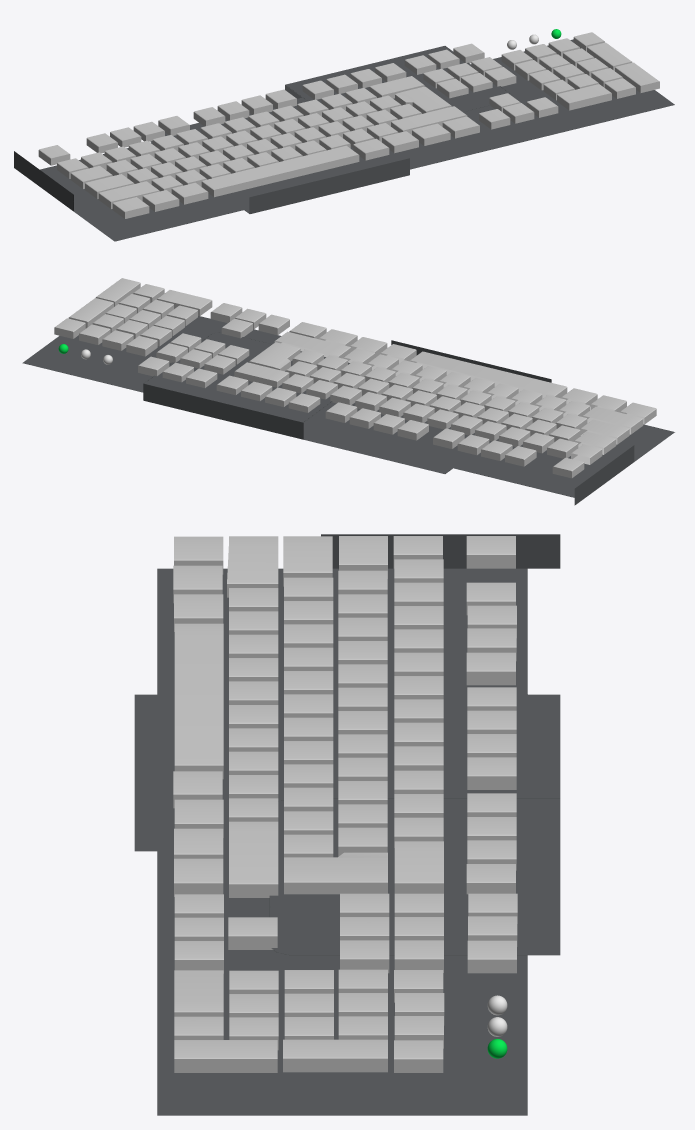
Rendered from KeyboardV1.fbx.
3 views of the same model, one above another, from view 1: azimuth 30°, elevation 25°; view 2: azimuth 150°, elevation 25°; view 3: azimuth 270°, elevation 25° (orthographic). The views are drawn at different scales.
Visible parts, largest first — view 1: Keyboard; view 2: Keyboard; view 3: Keyboard.
Boxes of the visible parts, box(x1,y1,x2,y2) form: Keyboard: box(14, 29, 674, 241); Keyboard: box(22, 278, 674, 505); Keyboard: box(134, 534, 560, 1115).
Bounding box in the file's own units: 498 × 19.77 × 164.
